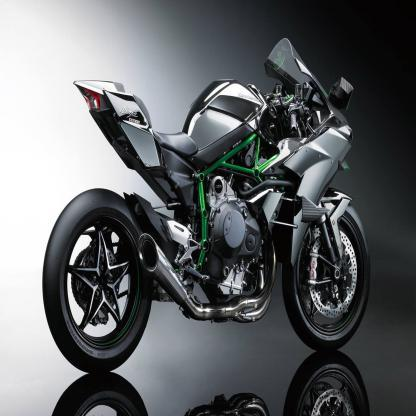Motorcycle: (36, 27, 378, 376)
